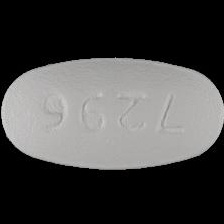0093-7296: (0, 0, 224, 224)
